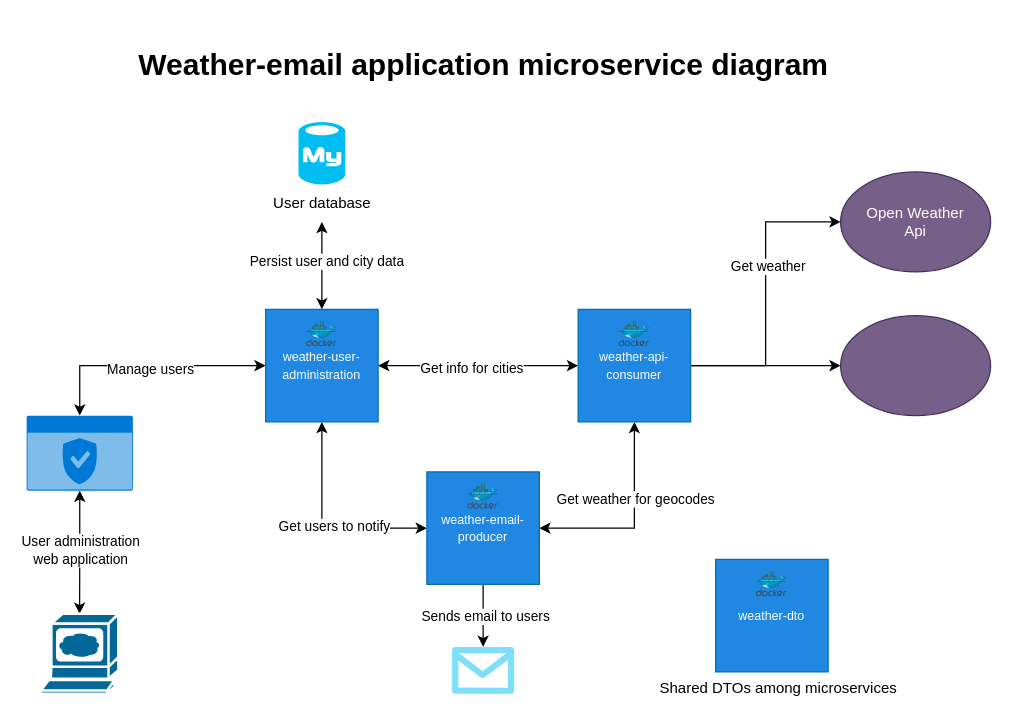
Some shapes in this 1014 by 728 pixel diagram are drawn without their labels. The centre of each missing label's shape, as x and y in pixels:
"Api ninjas - geocoding" goes at (915,365).
"Security" goes at (79,452).
